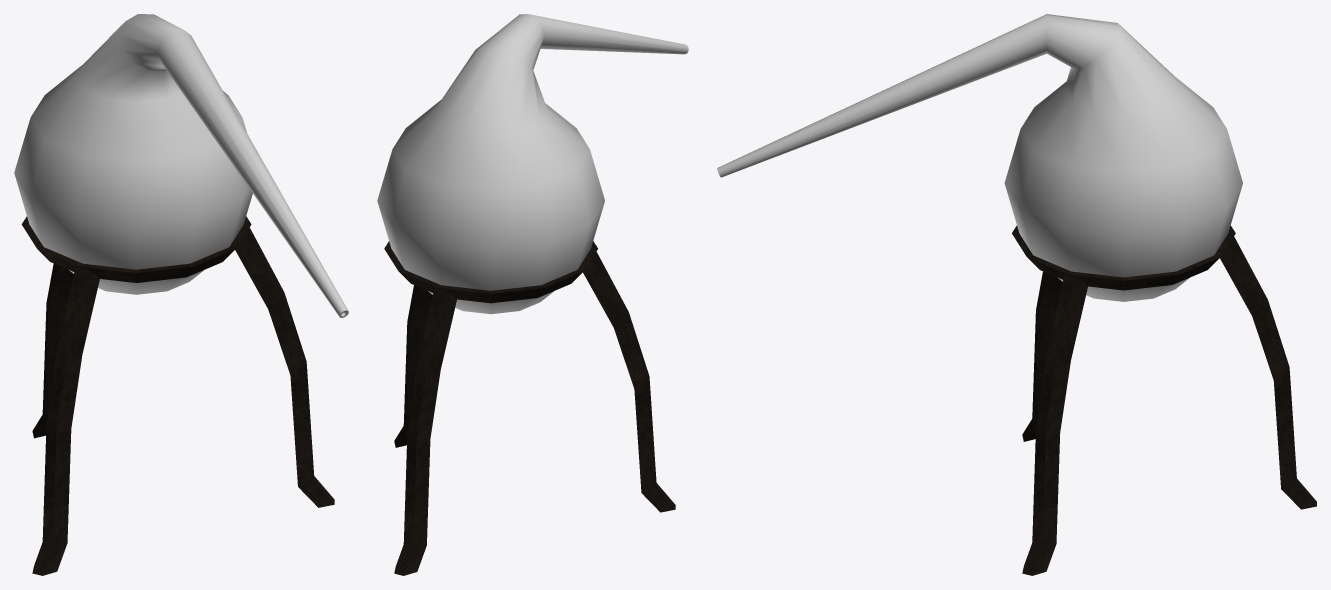
The model's file is retort.DAE.
3 views of the same model, side by side, from view 1: azimuth 30°, elevation 25°; view 2: azimuth 150°, elevation 25°; view 3: azimuth 270°, elevation 25° (orthographic). The views are drawn at different scales.
Parts seen in each view (by area): view 1: retort, tripod; view 2: retort, tripod; view 3: retort, tripod.
Part boxes in pixels (x1,y1,x2,y2): retort: (14, 14, 348, 317); tripod: (21, 216, 334, 575); retort: (377, 14, 688, 314); tripod: (384, 241, 675, 575); retort: (717, 14, 1242, 301); tripod: (1012, 225, 1316, 575).
Size of the model in its own units: 0.4225 by 0.745 by 0.6691.
